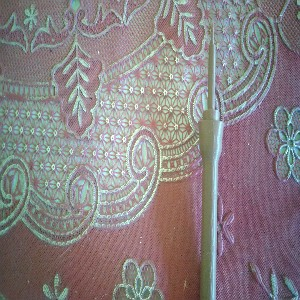solder: (196, 19, 226, 300)
